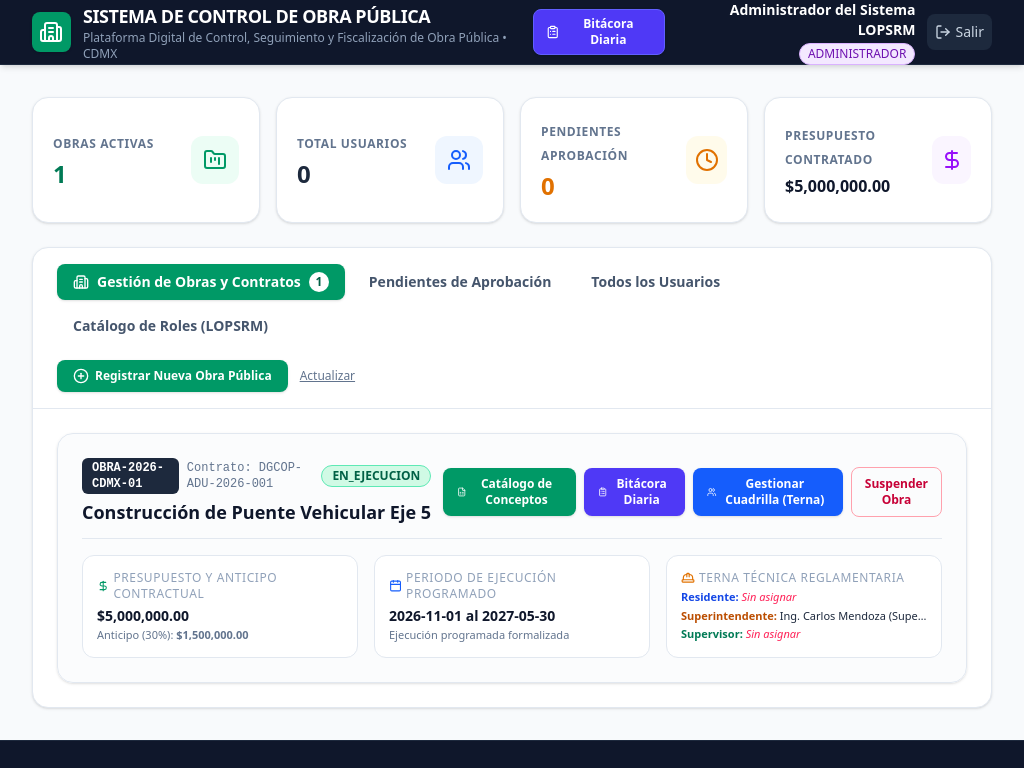
Test: Sprint 3: Pruebas de Interfaz de Usuario (HU-014 a HU-019) › HU-014 Inicialización: debe mostrar opción de inicializar catálogo si no existe y crearlo en BORRADOR
Later steps or results of the test are not shown.
Click the button "Catálogo de Conceptos" at (510, 492), box [443, 468, 576, 516]
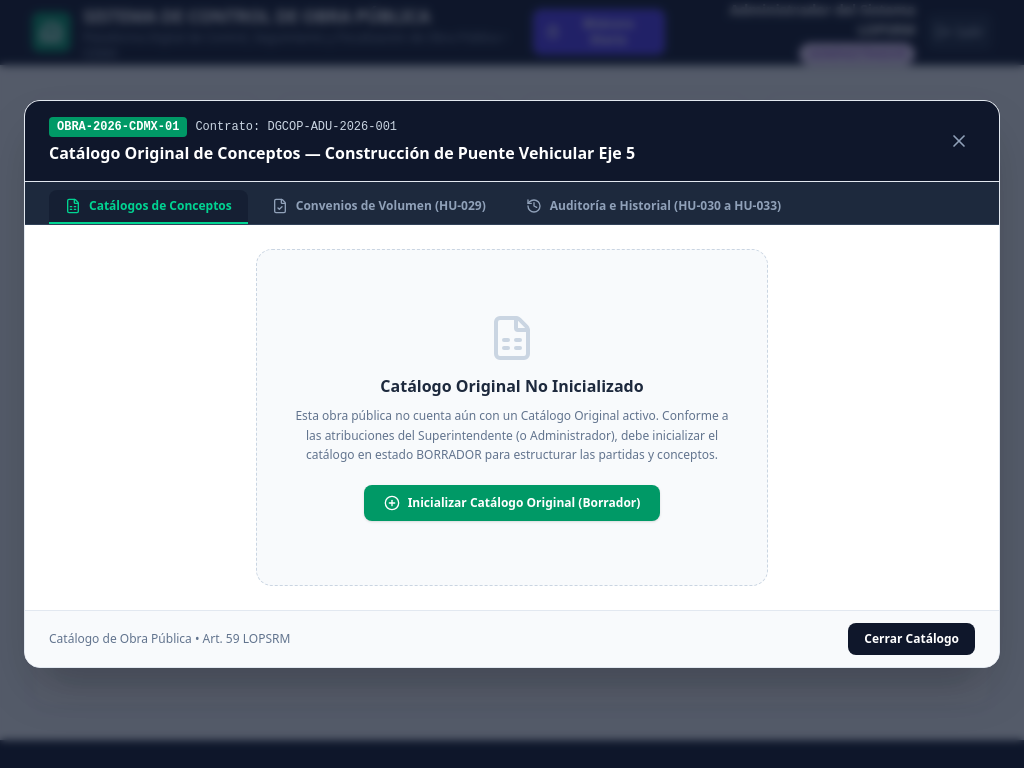
Expected: the heading "Catálogo Original No Inicializado" is shown, [380, 375, 644, 397]
Expected: the button "Inicializar Catálogo Original (Borrador)" is shown, [364, 485, 660, 521]
